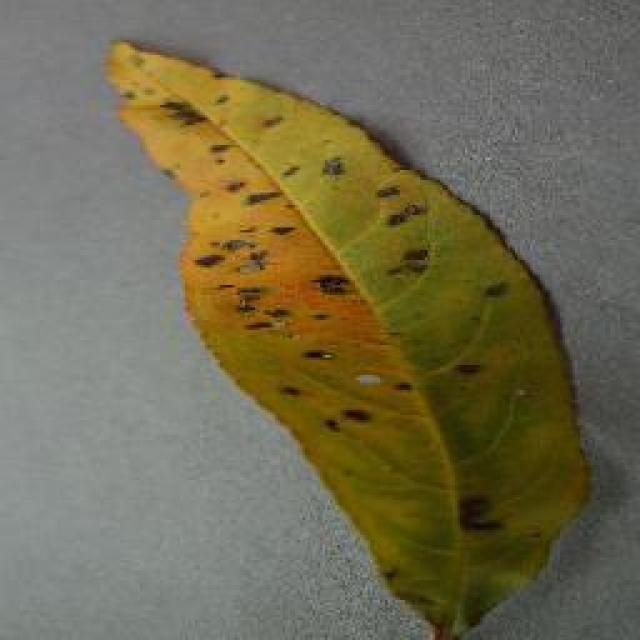Peach_Bacterial_Spot: (140, 45, 490, 410)
